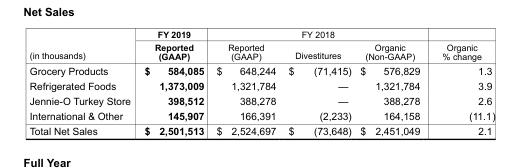table: (28, 29, 494, 136)
table column: (28, 29, 136, 136), (355, 29, 430, 136), (281, 29, 355, 136), (136, 29, 209, 136), (209, 29, 281, 136), (430, 29, 494, 136)
table column header: (28, 29, 494, 62)
table row: (28, 40, 494, 62), (28, 92, 494, 108), (28, 62, 494, 77), (28, 77, 494, 92), (28, 108, 494, 123), (28, 123, 494, 136), (28, 29, 494, 40)
table spanning cell: (28, 29, 136, 62), (209, 29, 430, 40), (136, 29, 209, 62), (430, 29, 494, 62)
